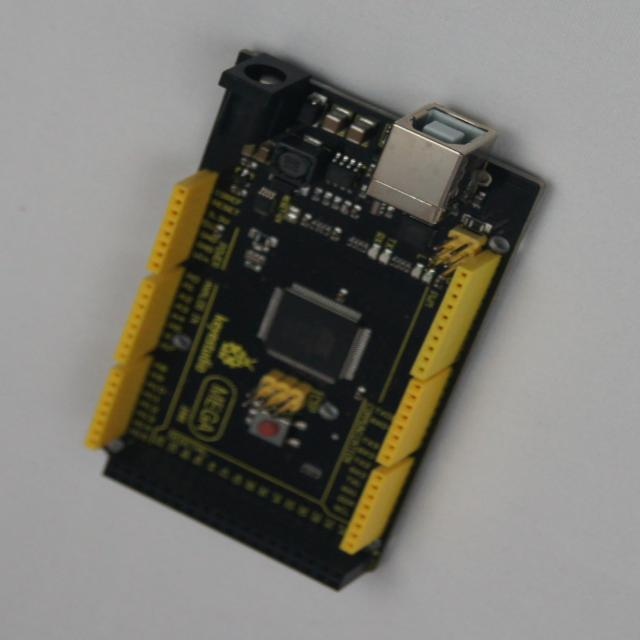Arduino Mega 2560 -Yellow-: (87, 51, 543, 590)
